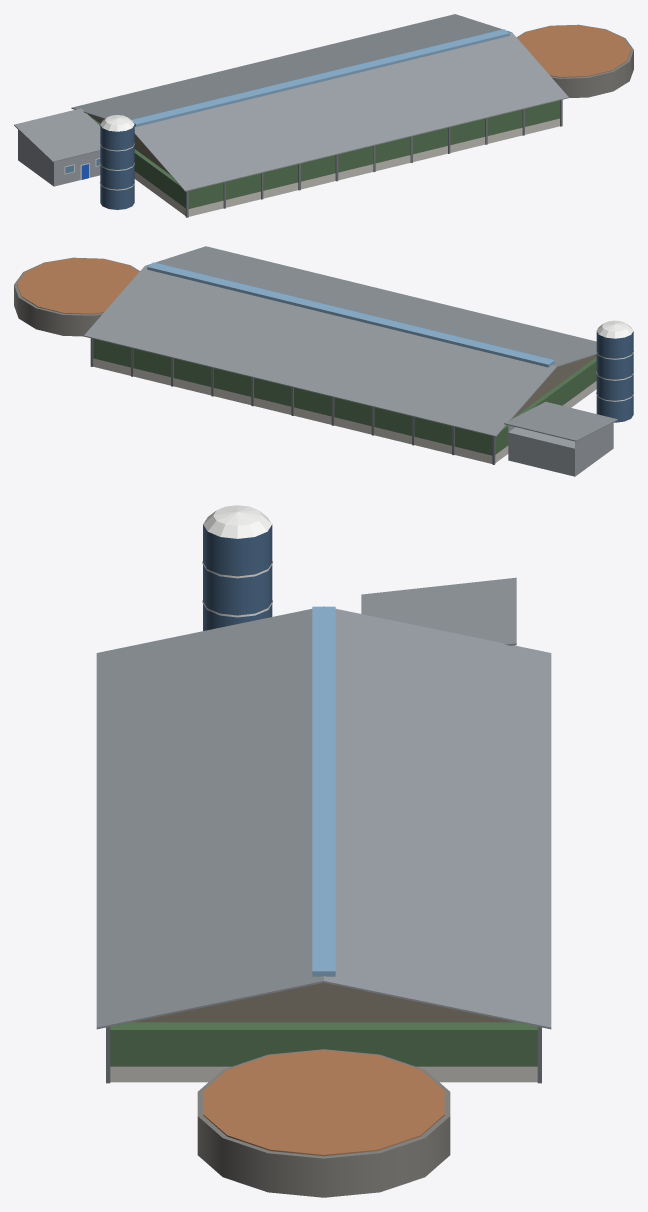
File: etable_moderne.glb
3 renders of one model, top to bottom at view 1: azimuth 30°, elevation 25°; view 2: azimuth 150°, elevation 25°; view 3: azimuth 270°, elevation 25°, orthographic. The views are drawn at different scales.
Parts seen in each view (by area): view 1: etable_moderne; view 2: etable_moderne; view 3: etable_moderne.
Boxes of the visible parts, x1,y1,x2,y2 form: etable_moderne: (14, 14, 633, 217); etable_moderne: (14, 246, 633, 476); etable_moderne: (96, 505, 551, 1197).
Size of the model in its own units: 90.4 by 12.96 by 31.6.
1 material, 1 textured.
